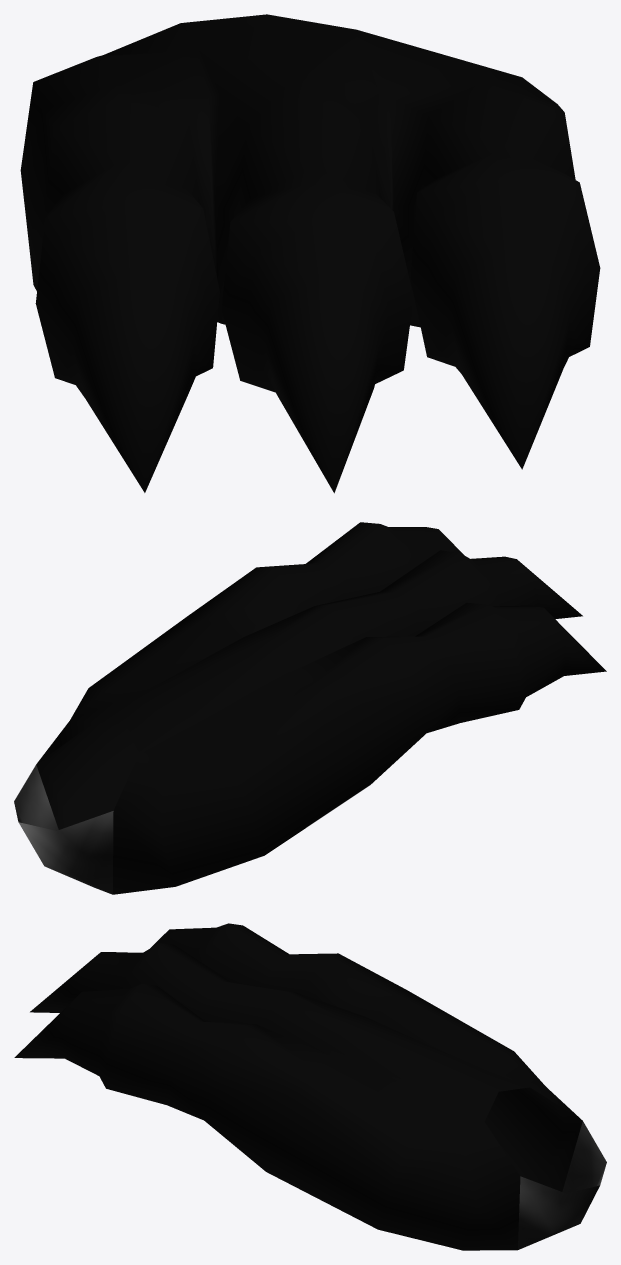
The model's file is 0510_zhuazi04.glb.
The picture shows the model from 3 angles, top to bottom: view 1: azimuth 30°, elevation 25°; view 2: azimuth 150°, elevation 25°; view 3: azimuth 270°, elevation 25°; orthographic projection. The views are drawn at different scales.
Bounding box in the file's own units: 1.49 × 0.9089 × 2.2.
1 material, 1 textured.
